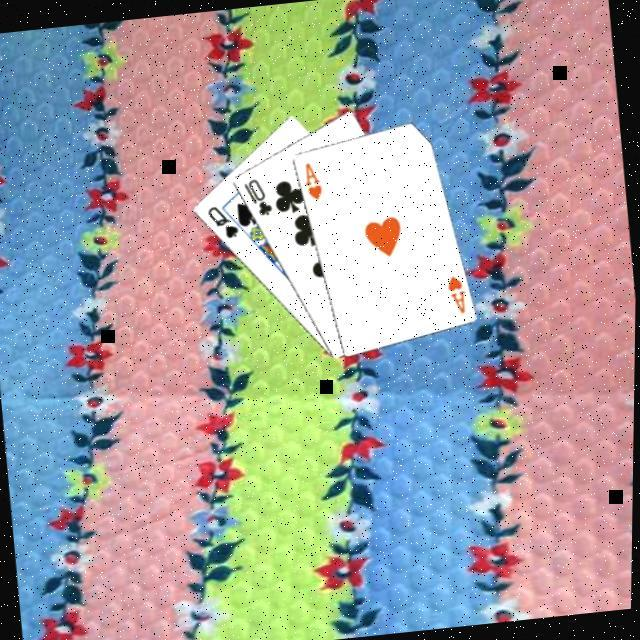10C: (240, 171, 278, 218)
AH: (300, 155, 328, 201), (445, 269, 472, 315)
QS: (205, 198, 244, 240)
